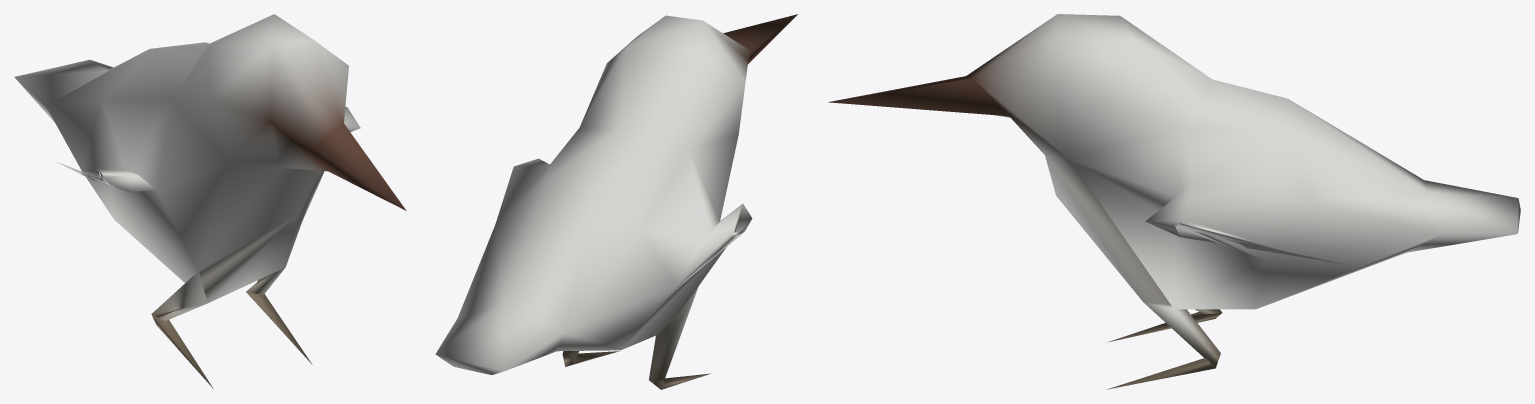
The model's file is kingfisher-1.glb.
3 renders of one model, left to right at view 1: azimuth 30°, elevation 25°; view 2: azimuth 150°, elevation 25°; view 3: azimuth 270°, elevation 25°, orthographic. The views are drawn at different scales.
Parts seen in each view (by area): view 1: kingfisher; view 2: kingfisher; view 3: kingfisher.
Part boxes in pixels (x1=…): kingfisher: x1=14, y1=14, x2=406, y2=388; kingfisher: x1=435, y1=14, x2=797, y2=389; kingfisher: x1=828, y1=14, x2=1520, y2=389.
Bounding box in the file's own units: 0.1106 × 0.1532 × 0.2789.
